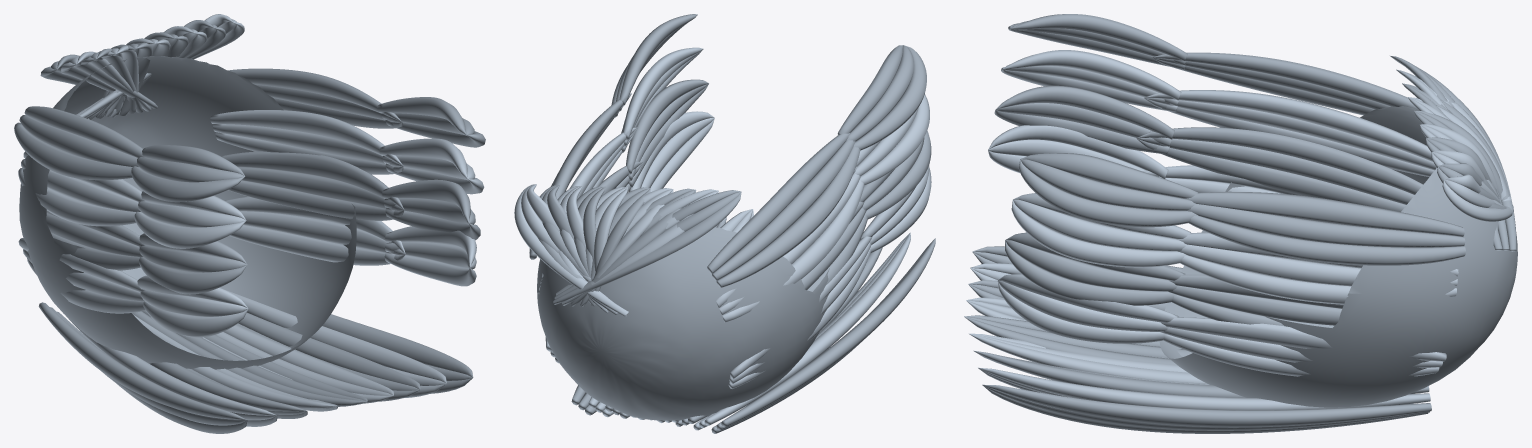
3 renders of one model, left to right at view 1: azimuth 30°, elevation 25°; view 2: azimuth 150°, elevation 25°; view 3: azimuth 270°, elevation 25°, orthographic. The views are drawn at different scales.
Visible parts, largest first — view 1: CrownHair_ref06, BackHair_00_Strand0, SideHair_Upper_1_1_Strand2, SideHair_Upper_1_2_Strand2, BackHair_07_Strand2, BackHair_06_Strand2, SideHair_Upper_1_3_Strand0, SideHair_Upper_1_2_Strand0, SideHair_Upper_1_3_Strand1, SideHair_Upper_1_0_Strand2, SideHair_Upper_1_2_Strand1, SideHair_Upper_-1_0_Strand2 (+60 smaller); view 2: CrownHair_ref06, BackHair_00_Strand0, SideHair_Upper_-1_0_Strand2, SideHair_Upper_-1_0_Strand0, SideHair_Upper_-1_0_Strand1, BackHair_01_Strand0, SideHair_Upper_-1_1_Strand2, FrontHair_Sweep_00_Strand2, SideHair_Wave_-1_0_Strand2, SideHair_Wave_-1_1_Strand2, SideHair_Wave_-1_0_Strand1, SideHair_Wave_1_2_Strand2 (+47 smaller); view 3: CrownHair_ref06, BackHair_08_Strand2, SideHair_Upper_1_0_Strand2, SideHair_Upper_1_0_Strand0, SideHair_Upper_1_0_Strand1, BackHair_07_Strand2, SideHair_Upper_-1_1_Strand0, SideHair_Upper_-1_2_Strand0, SideHair_Upper_-1_2_Strand1, SideHair_Upper_-1_2_Strand2, SideHair_Upper_-1_0_Strand0, SideHair_Wave_1_0_Strand0 (+51 smaller).
Part boxes in pixels (x1,y1,x2,y2): CrownHair_ref06: [19, 56, 356, 369]; BackHair_00_Strand0: [38, 302, 246, 420]; SideHair_Upper_1_1_Strand2: [210, 110, 402, 165]; SideHair_Upper_1_2_Strand2: [221, 151, 404, 209]; BackHair_07_Strand2: [223, 289, 446, 383]; BackHair_06_Strand2: [238, 313, 420, 389]; SideHair_Upper_1_3_Strand0: [229, 225, 404, 265]; SideHair_Upper_1_2_Strand0: [228, 180, 404, 220]; SideHair_Upper_1_3_Strand1: [240, 211, 405, 255]; SideHair_Upper_1_0_Strand2: [228, 68, 401, 121]; SideHair_Upper_1_2_Strand1: [238, 167, 403, 211]; SideHair_Upper_-1_0_Strand2: [14, 122, 132, 180]; CrownHair_ref06: [537, 227, 829, 420]; BackHair_00_Strand0: [721, 238, 935, 427]; SideHair_Upper_-1_0_Strand2: [716, 146, 860, 287]; SideHair_Upper_-1_0_Strand0: [707, 133, 849, 273]; SideHair_Upper_-1_0_Strand1: [712, 140, 855, 280]; BackHair_01_Strand0: [704, 233, 910, 425]; SideHair_Upper_-1_1_Strand2: [722, 180, 864, 322]; FrontHair_Sweep_00_Strand2: [553, 192, 741, 304]; SideHair_Wave_-1_0_Strand2: [853, 45, 926, 150]; SideHair_Wave_-1_1_Strand2: [859, 94, 929, 185]; SideHair_Wave_-1_0_Strand1: [846, 45, 913, 141]; SideHair_Wave_1_2_Strand2: [626, 79, 708, 174]; CrownHair_ref06: [1159, 106, 1517, 407]; BackHair_08_Strand2: [982, 384, 1431, 427]; SideHair_Upper_1_0_Strand2: [1185, 191, 1464, 236]; SideHair_Upper_1_0_Strand0: [1188, 215, 1465, 265]; SideHair_Upper_1_0_Strand1: [1186, 204, 1465, 247]; BackHair_07_Strand2: [978, 367, 1430, 410]; SideHair_Upper_-1_1_Strand0: [1144, 90, 1433, 161]; SideHair_Upper_-1_2_Strand0: [1137, 127, 1422, 194]; SideHair_Upper_-1_2_Strand1: [1137, 137, 1414, 204]; SideHair_Upper_-1_2_Strand2: [1137, 139, 1406, 211]; SideHair_Upper_-1_0_Strand0: [1152, 52, 1419, 110]; SideHair_Wave_1_0_Strand0: [1018, 159, 1197, 227].
Bounding box in the file's own units: 0.677 × 0.6614 × 1.01.
